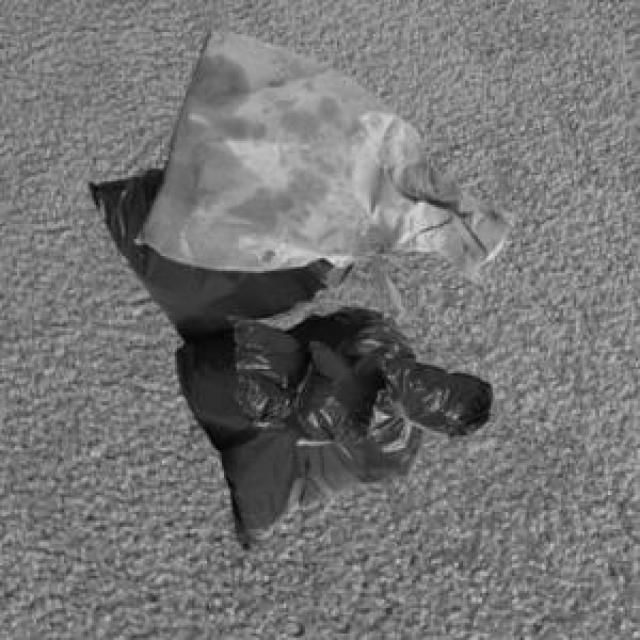miscellaneous trash: (86, 166, 422, 546), (224, 313, 489, 440)
paper: (133, 25, 510, 280)
